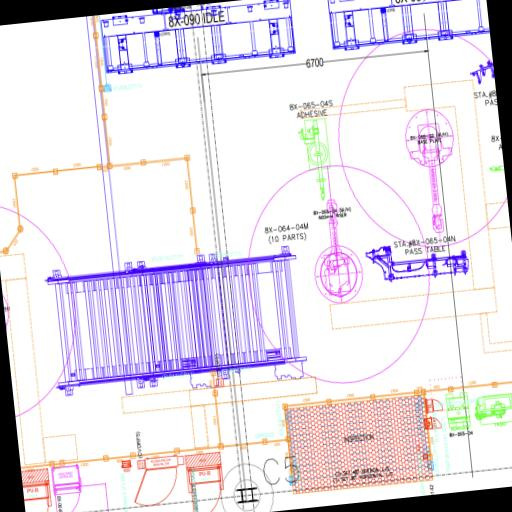robot: (401, 105, 466, 241), (306, 194, 368, 309)
